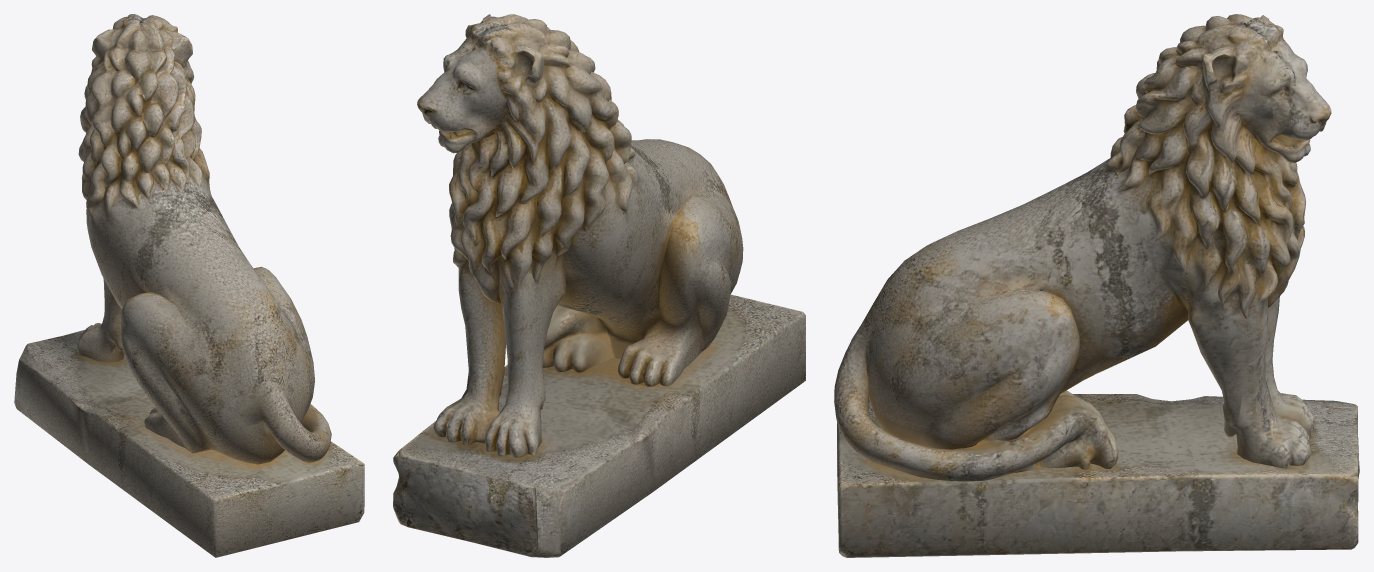
Rendered from lion.glb.
3 views of the same model, side by side, from view 1: azimuth 30°, elevation 25°; view 2: azimuth 150°, elevation 25°; view 3: azimuth 270°, elevation 25° (orthographic). The views are drawn at different scales.
Visible parts, largest first — view 1: lion; view 2: lion; view 3: lion.
Part boxes in pixels (x1,y1,x2,y2): lion: [14, 14, 364, 557]; lion: [393, 14, 805, 557]; lion: [834, 14, 1359, 557].
Size of the model in its own units: 0.8398 by 1.99 by 1.9.
Materials: 1 (1 with a texture image).
